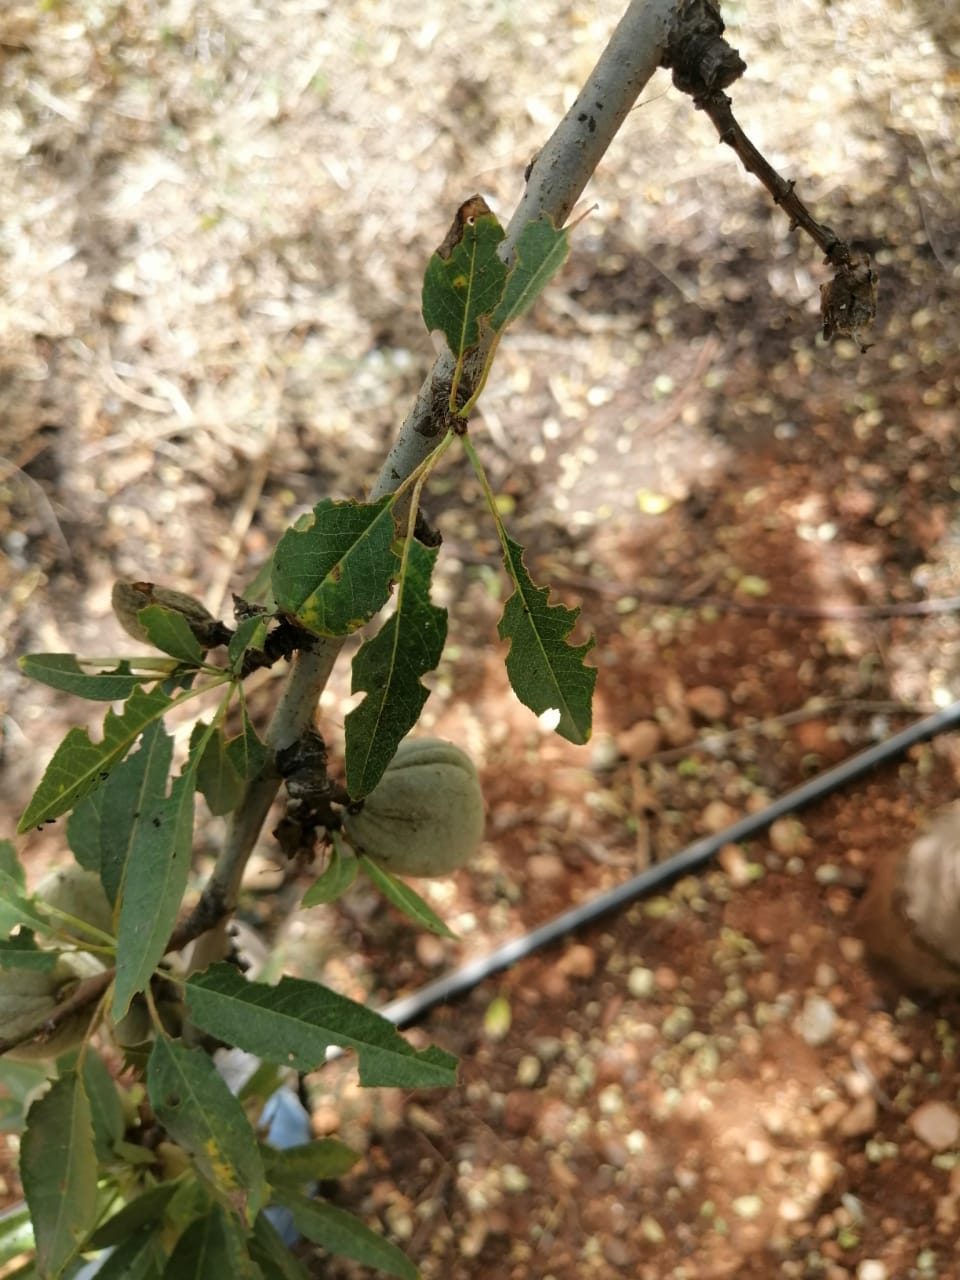othyorinques: (182, 958, 463, 1091), (14, 683, 222, 840), (494, 525, 600, 748), (267, 498, 401, 640), (14, 650, 144, 703), (136, 599, 202, 667)
